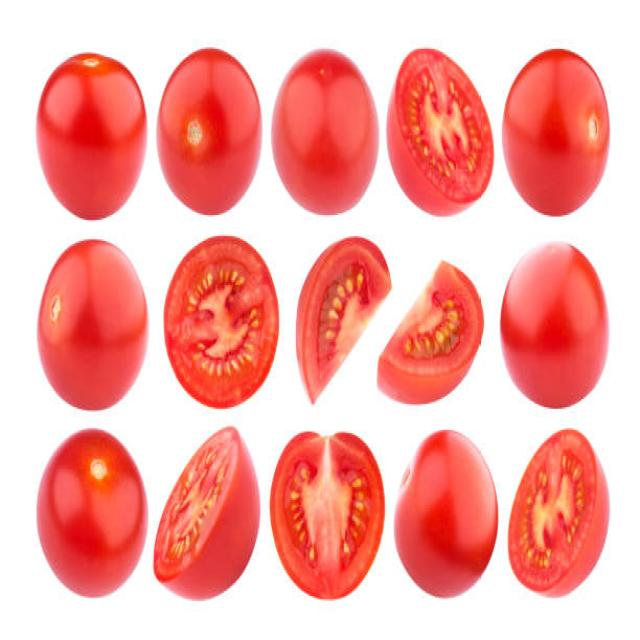Tomato: (381, 16, 500, 232), (134, 423, 268, 610), (155, 226, 278, 428), (496, 417, 622, 610), (269, 425, 386, 607), (377, 240, 490, 410), (281, 230, 390, 402)
